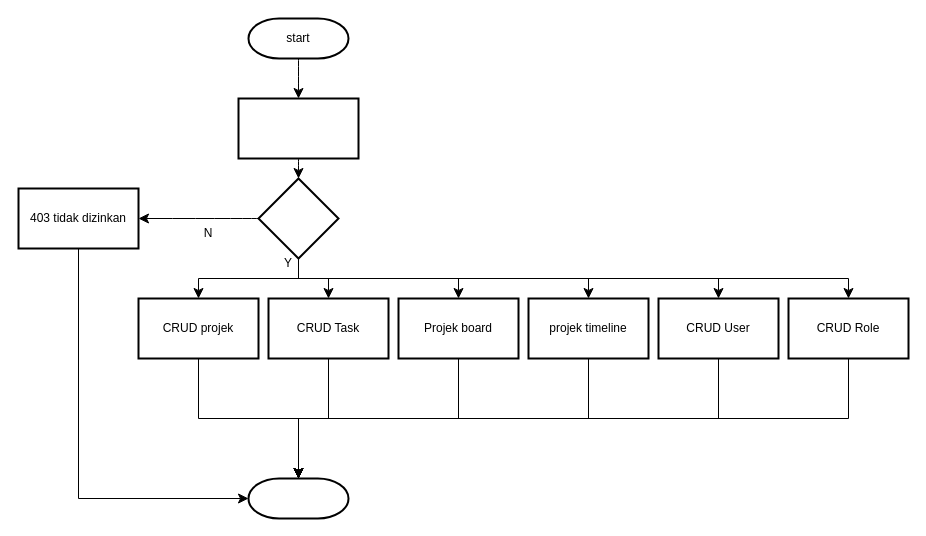
This 926x536 diagram has some shape labels left out. Each missing label, with the centre of its shape:
"Cek Role" goes at (298,218).
"End" goes at (298,498).
"login" goes at (298,128).
